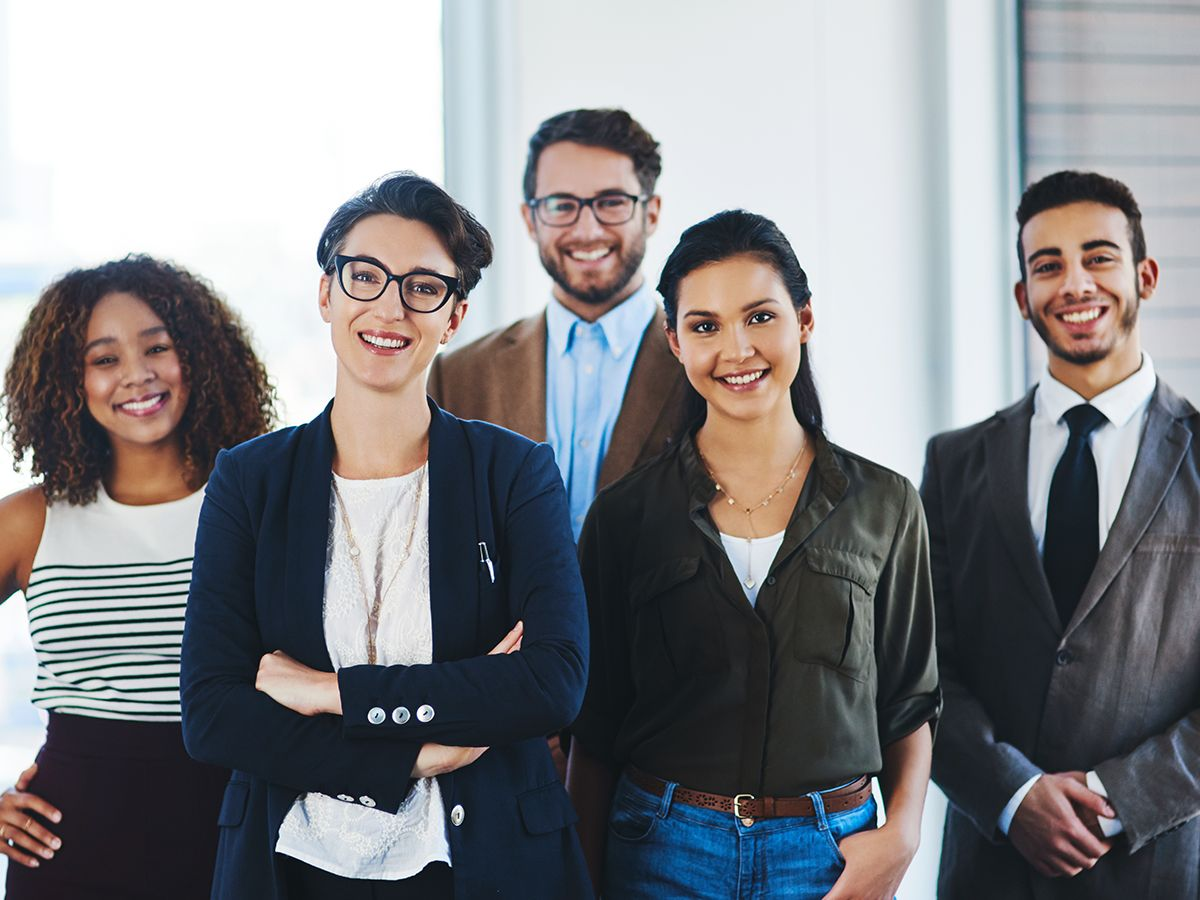no_mask: (307, 171, 486, 410), (16, 251, 227, 447), (1003, 165, 1162, 374), (667, 213, 817, 431), (517, 103, 662, 306)
